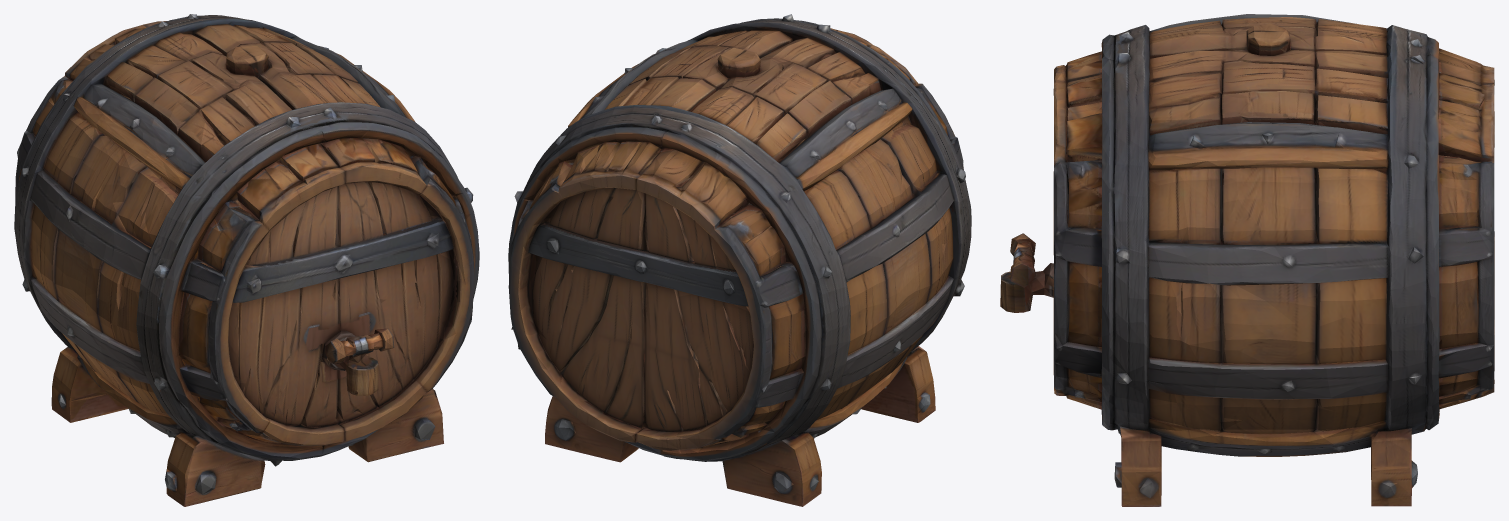
Rendered from barrel.glb.
3 renders of one model, left to right at view 1: azimuth 30°, elevation 25°; view 2: azimuth 150°, elevation 25°; view 3: azimuth 270°, elevation 25°, orthographic. The views are drawn at different scales.
Visible parts, largest first — view 1: temp; view 2: temp; view 3: temp.
Boxes of the visible parts, x1,y1,x2,y2 form: temp: (14,14,479,506); temp: (508,14,971,506); temp: (1000,14,1494,506).
Bounding box in the file's own units: 1.75 × 1.82 × 2.
1 material, 1 textured.
